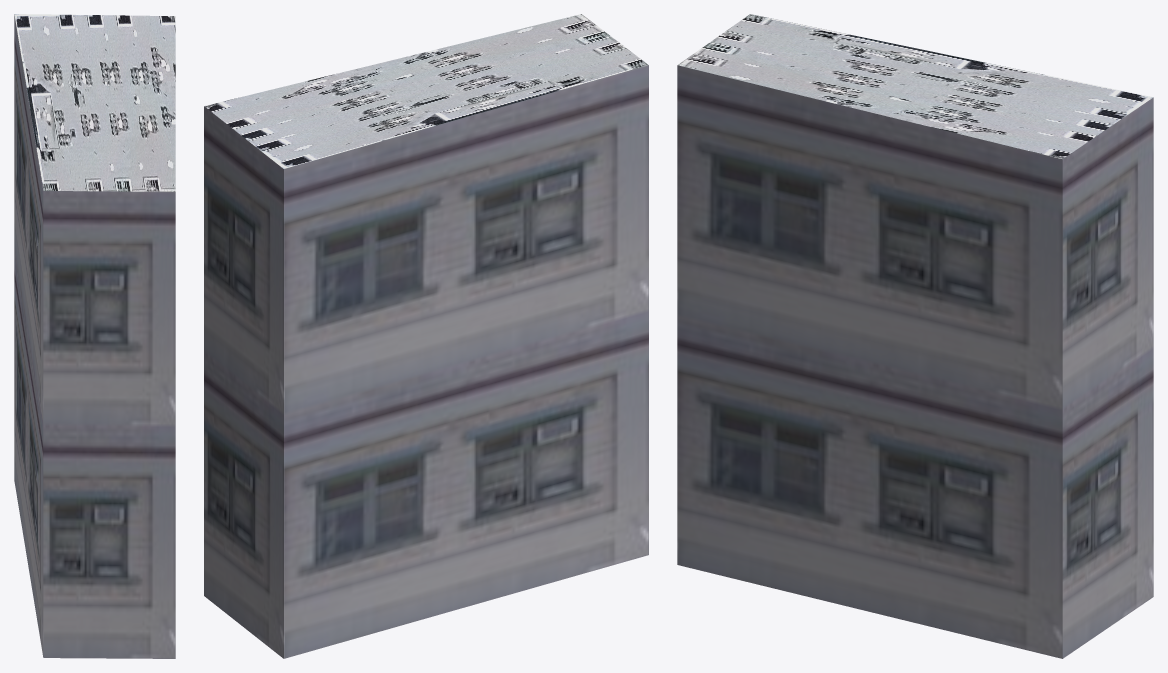
File: ResTex__363.fbx
3 views of the same model, side by side, from view 1: azimuth 30°, elevation 25°; view 2: azimuth 150°, elevation 25°; view 3: azimuth 270°, elevation 25° (orthographic). The views are drawn at different scales.
Parts seen in each view (by area): view 1: CityEngineMaterial_1_m, CityEngineMaterial_m; view 2: CityEngineMaterial_1_m, CityEngineMaterial_m; view 3: CityEngineMaterial_1_m, CityEngineMaterial_m.
Part boxes in pixels (<box>): CityEngineMaterial_1_m: <box>14,14,175,658</box>; CityEngineMaterial_m: <box>14,14,175,191</box>; CityEngineMaterial_1_m: <box>204,65,648,658</box>; CityEngineMaterial_m: <box>204,14,648,168</box>; CityEngineMaterial_1_m: <box>677,65,1153,658</box>; CityEngineMaterial_m: <box>677,14,1152,158</box>.
Size of the model in its own units: 3.74 by 6 by 5.18.
2 materials, 2 textured.
